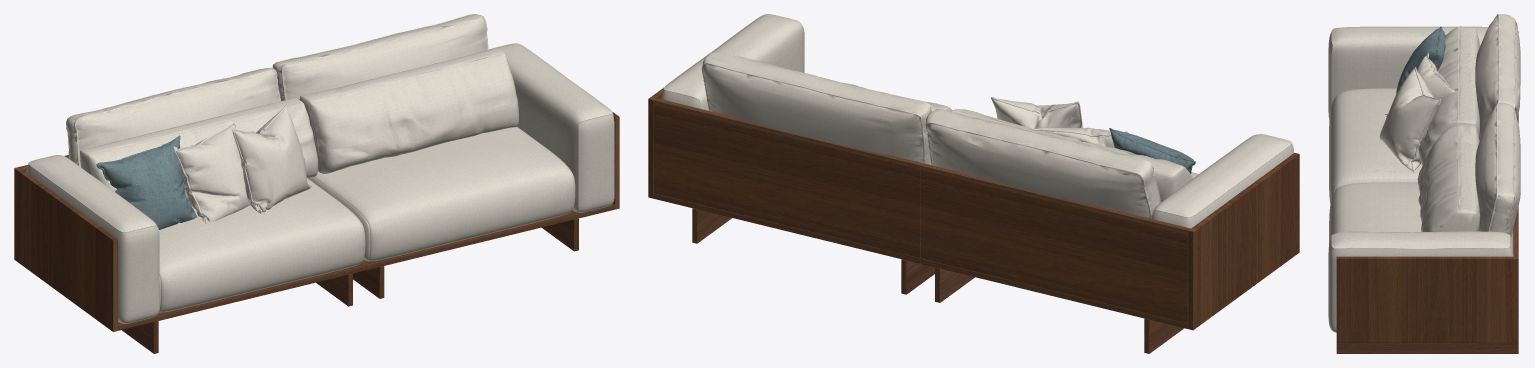
File: MEGA_PACK_Sofa__Alto_3.5_seater_Louvoir_Fabric_Sofa_blue.glb
3 renders of one model, left to right at view 1: azimuth 30°, elevation 25°; view 2: azimuth 150°, elevation 25°; view 3: azimuth 270°, elevation 25°, orthographic. The views are drawn at different scales.
Visible parts, largest first — view 1: Alto 3.5 seater Louvoir Fabric Sofa blue; view 2: Alto 3.5 seater Louvoir Fabric Sofa blue; view 3: Alto 3.5 seater Louvoir Fabric Sofa blue.
Boxes of the visible parts, x1,y1,x2,y2 form: Alto 3.5 seater Louvoir Fabric Sofa blue: (14, 14, 619, 353); Alto 3.5 seater Louvoir Fabric Sofa blue: (648, 14, 1299, 353); Alto 3.5 seater Louvoir Fabric Sofa blue: (1328, 14, 1520, 353).
Bounding box in the file's own units: 2.6 × 0.8459 × 0.9302.
3 materials, 3 textured.
